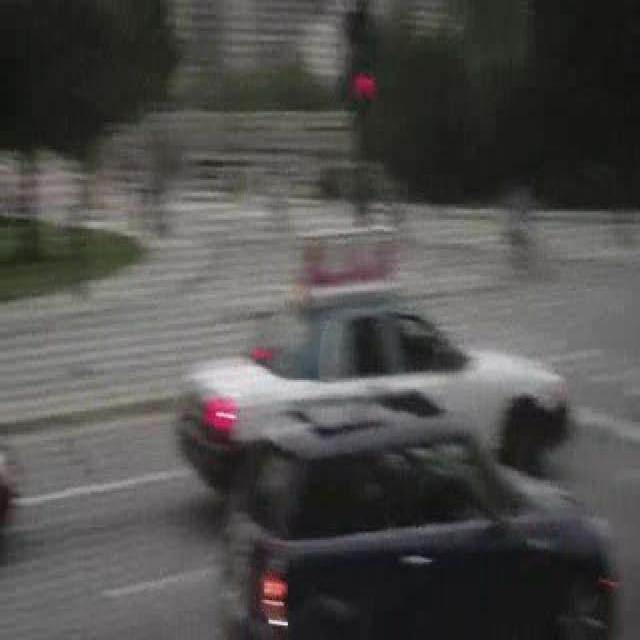other: (248, 542, 290, 628), (197, 372, 237, 447)
